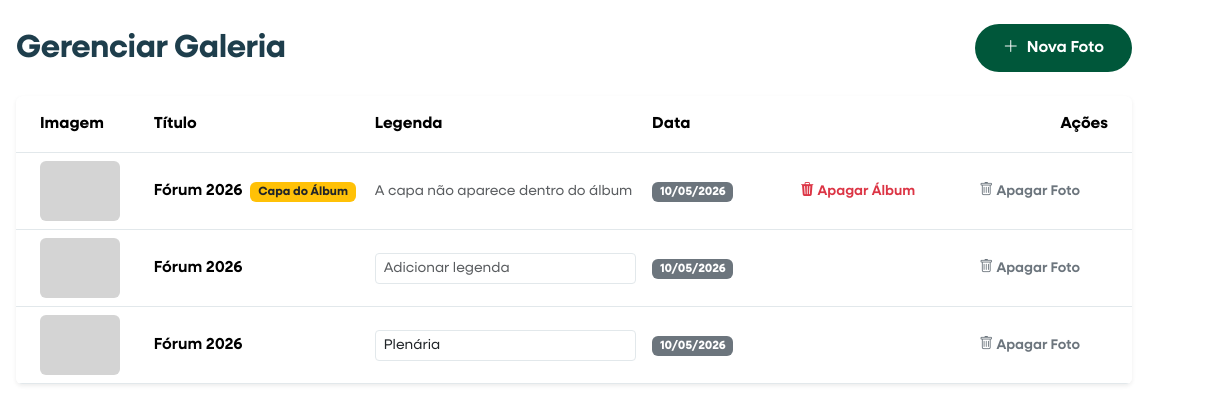
GalleryList — legenda das fotos › salva a legenda digitada
Type "  Abertura com a reitoria " into the field named "Legenda da foto 2" at x=505, y=268, box [375,252,636,284]
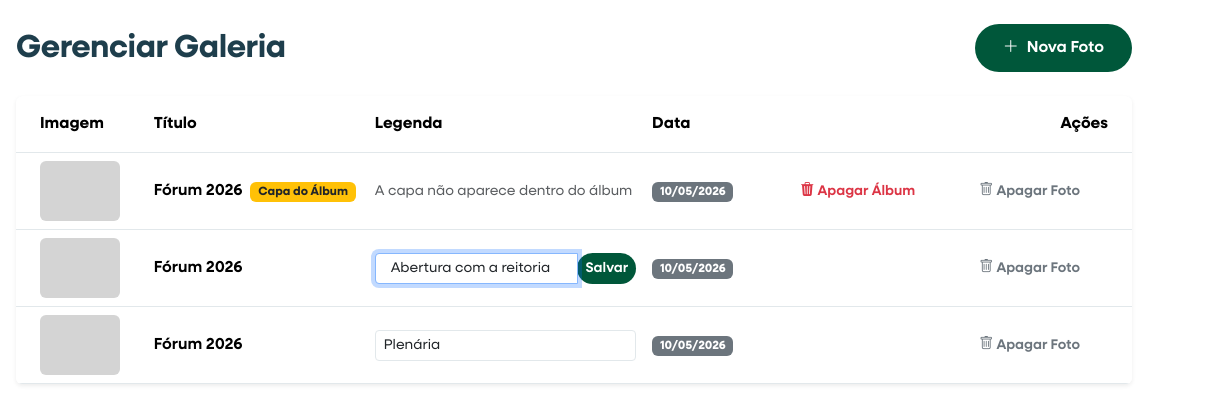
Click the button "Salvar" at x=607, y=268, box [577,252,636,284]
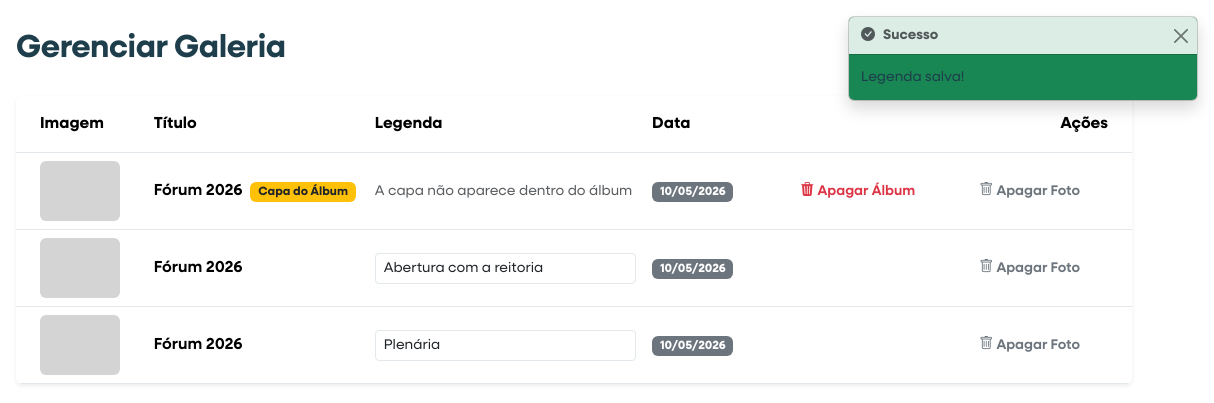
Expected: the text "Legenda salva!" is shown, [861,70,964,84]
Expected: the button "Salvar" is gone
